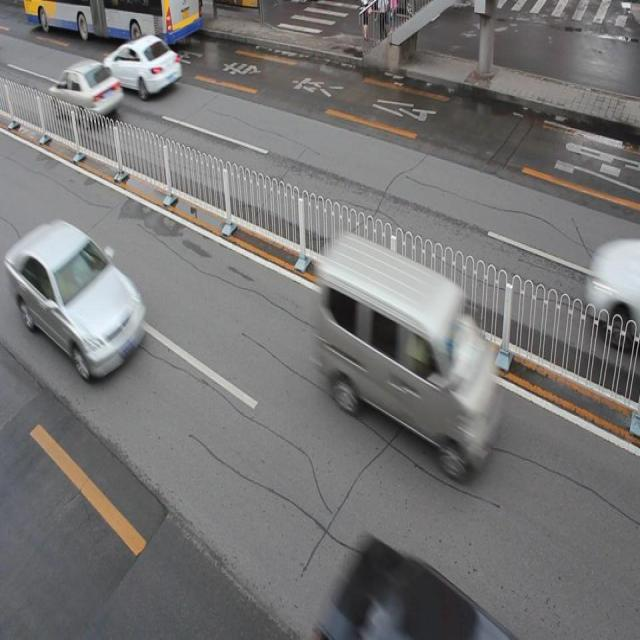car: (11, 218, 148, 376), (327, 535, 503, 640), (103, 34, 182, 100), (51, 60, 122, 126)
truck: (317, 230, 498, 470)
van: (24, 1, 201, 43)
